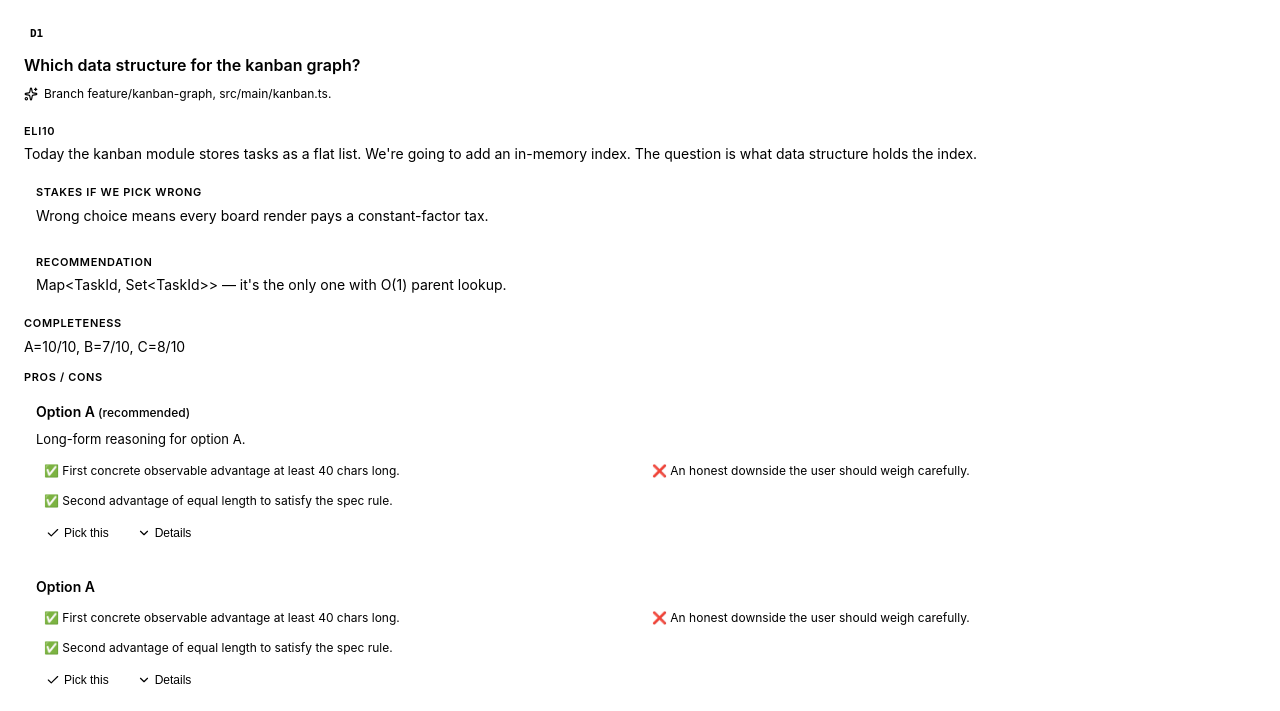
Test: <QuestionBrief /> — options › toggles the details panel when the user clicks Details
What coordinates should you click on to do the following:
click the button "Details" below "recommended"
I would click on:
 (164, 532)
Its box is [127,522,201,544].
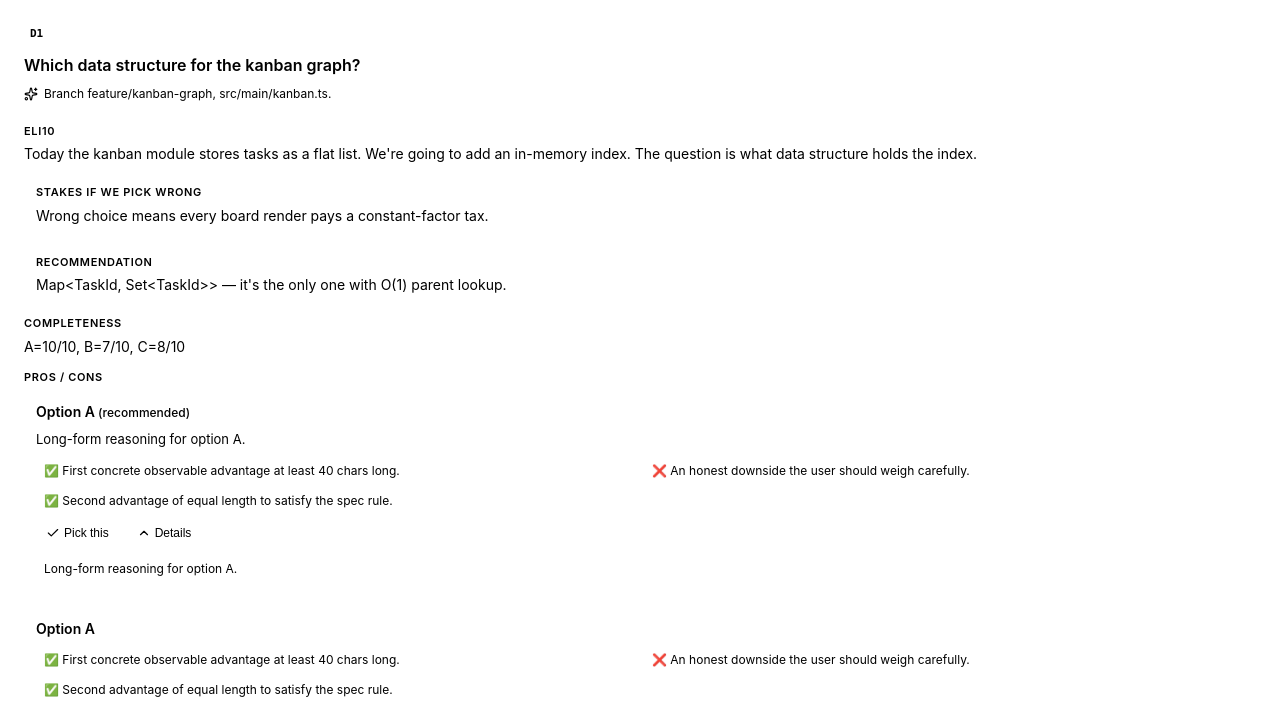
Expected: the 2nd text "Long-form reasoning for option A." is shown, [44,560,237,576]
